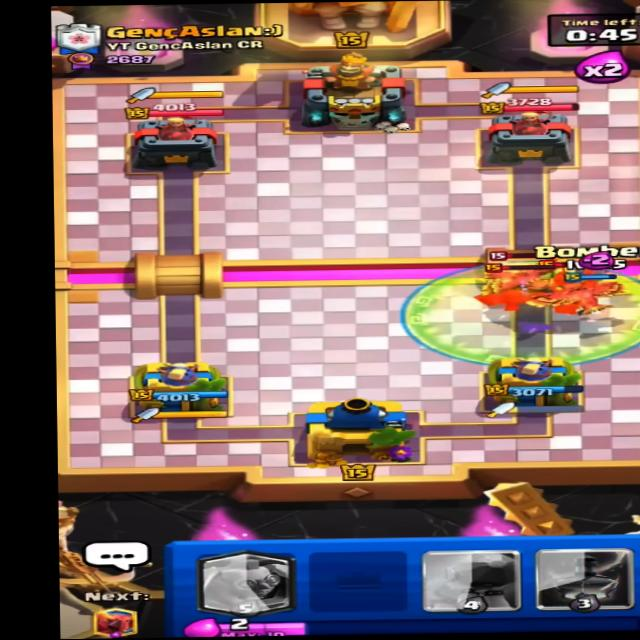phoenix: (471, 250, 586, 295)
